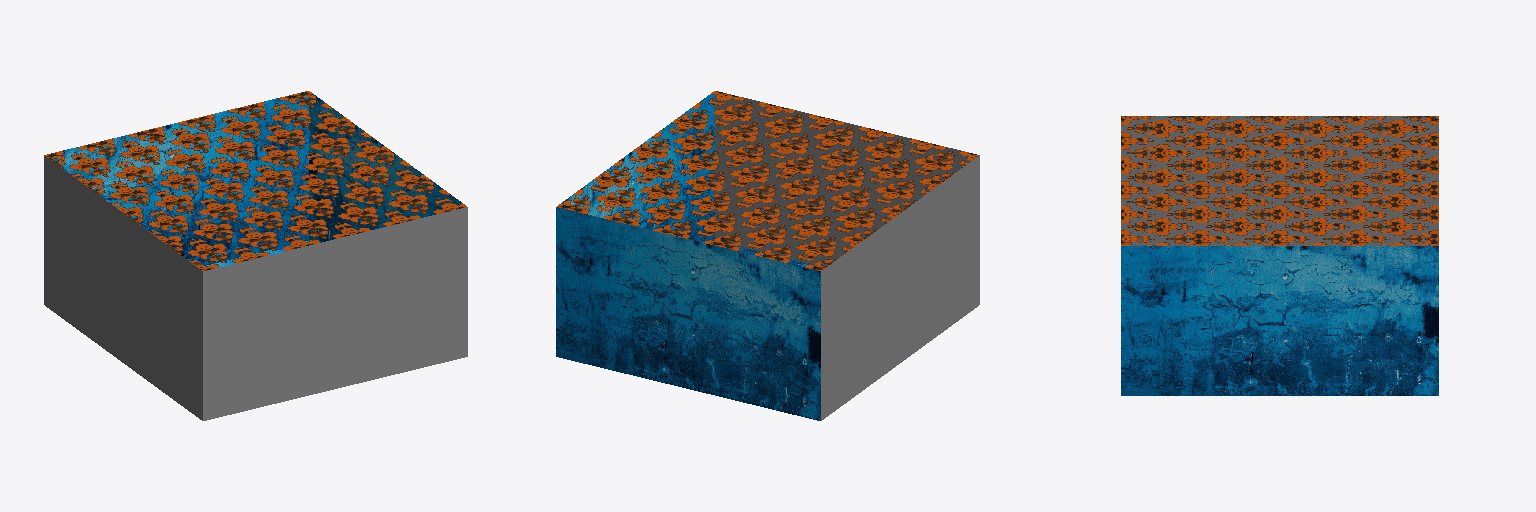
3 renders of one model, left to right at view 1: azimuth 30°, elevation 25°; view 2: azimuth 150°, elevation 25°; view 3: azimuth 270°, elevation 25°, orthographic.
Parts seen in each view (by area): view 1: Box001; view 2: Box001; view 3: Box001.
Boxes of the visible parts, box(x1,y1,x2,y2) form: Box001: box(44, 91, 467, 420); Box001: box(556, 91, 979, 420); Box001: box(1121, 116, 1438, 395).
Bounding box in the file's own units: 38.33 × 20.74 × 39.82.
Materials: 4 (2 with a texture image).